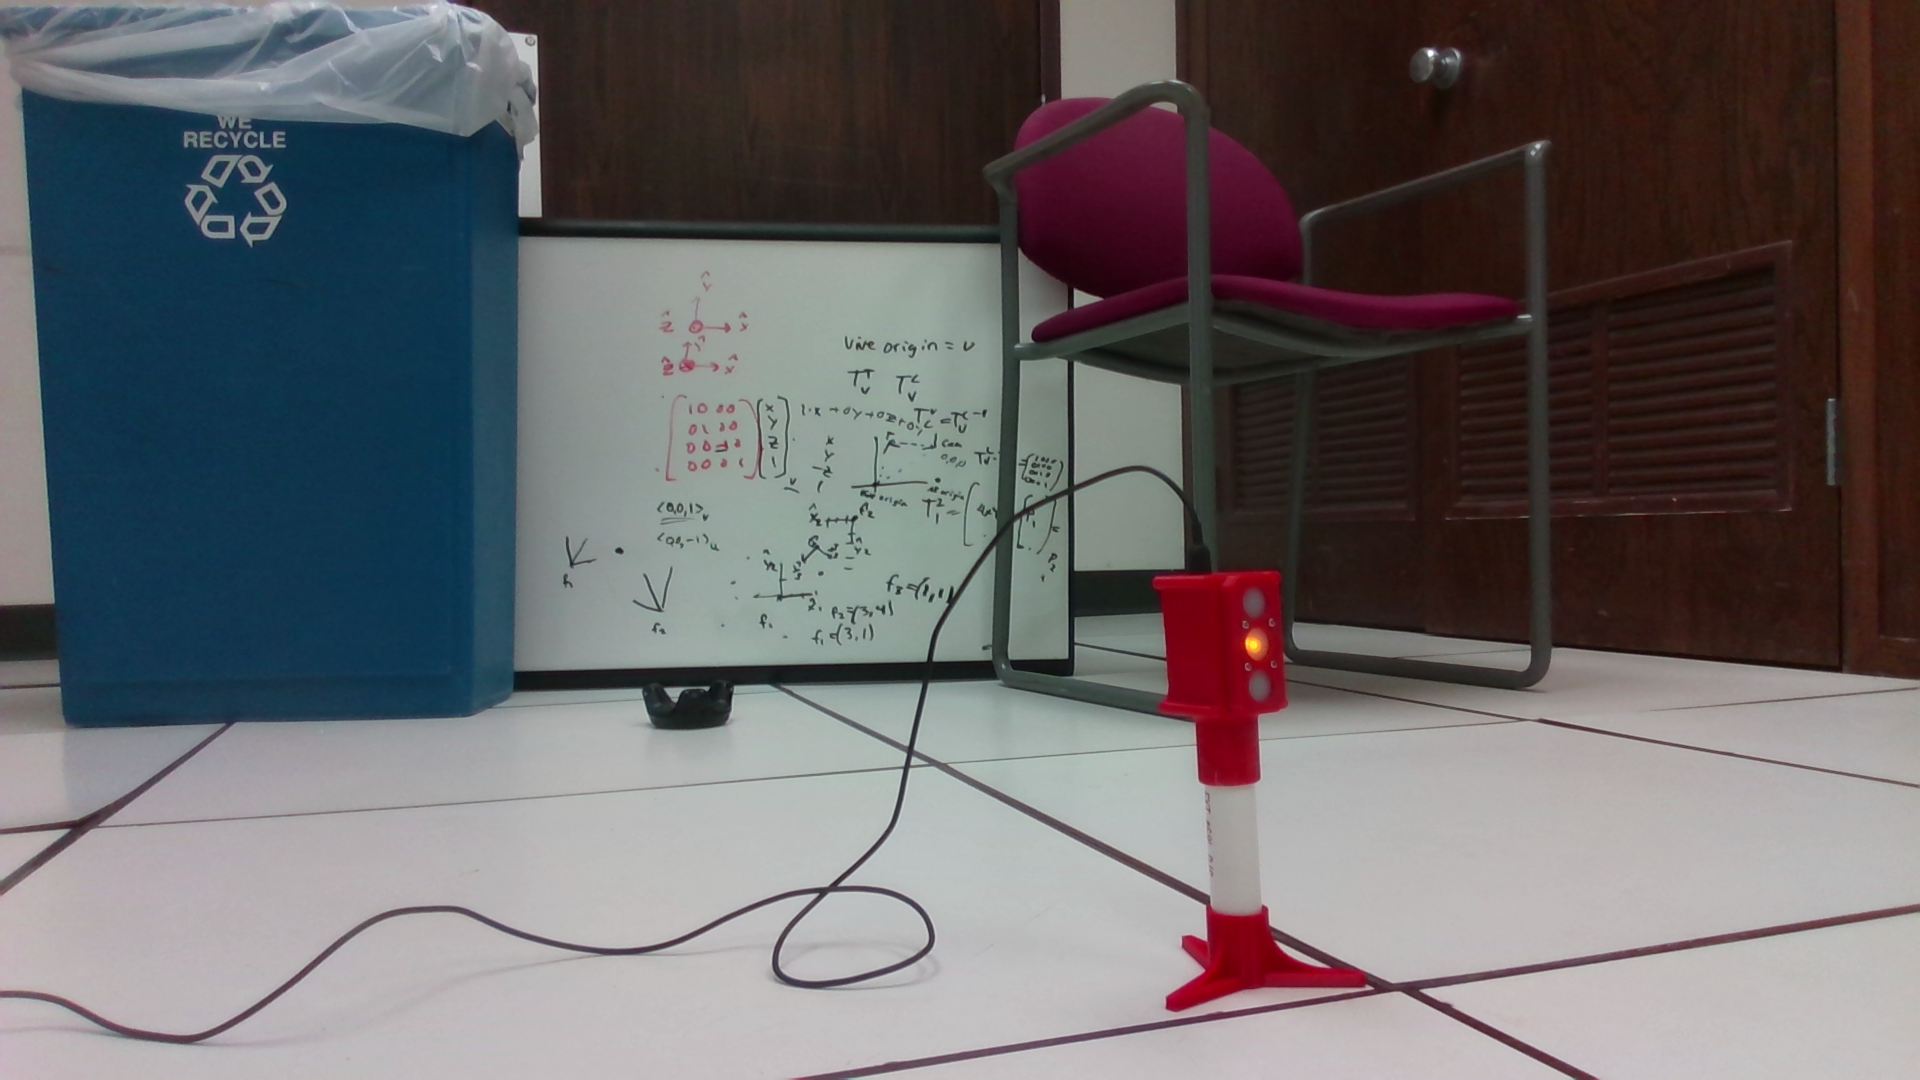stoplight: (1154, 571, 1291, 789)
